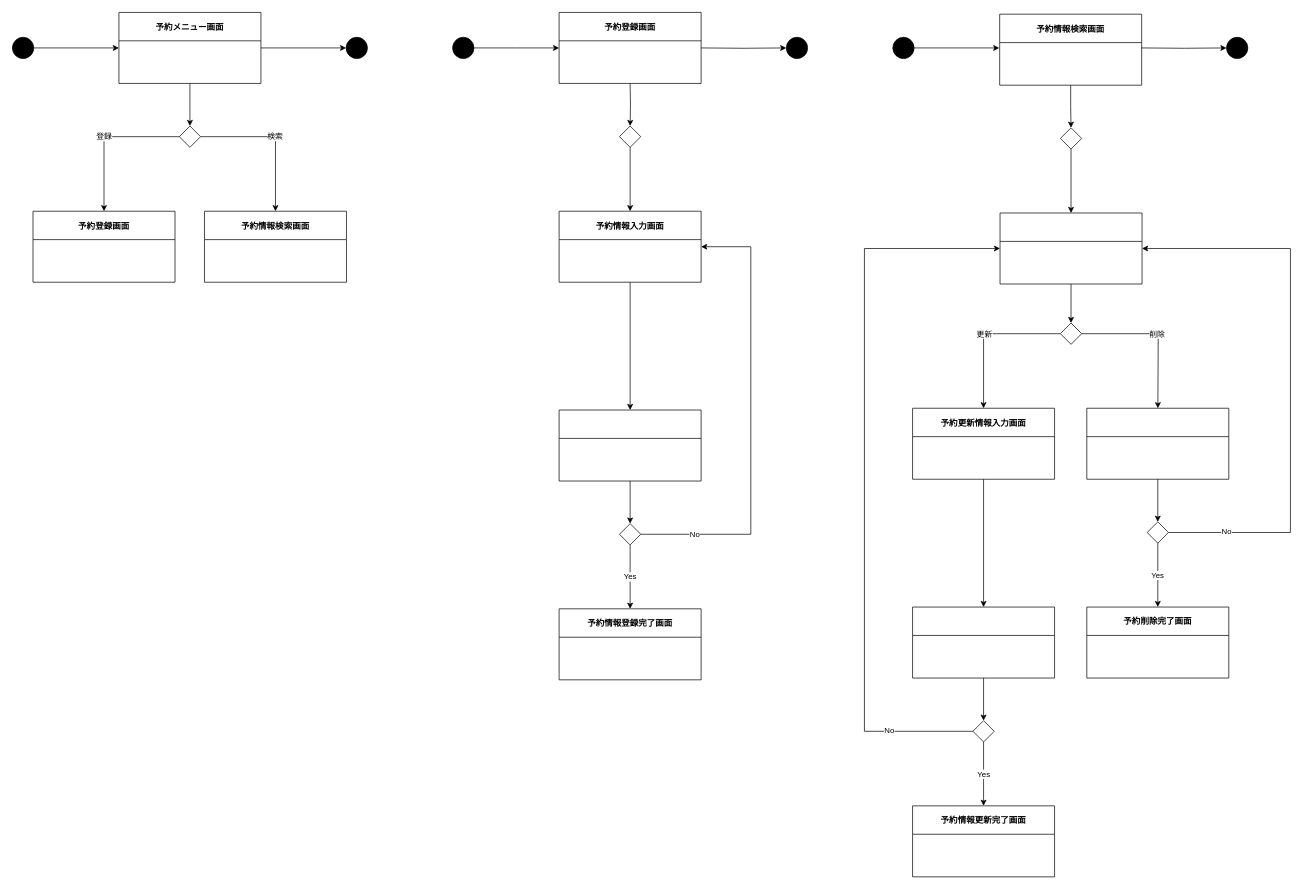
Image size: 1309x890. Some labels were removed from this diagram. Each missing label, with the centre of its shape:
予約削除確認画面: the point at 1157,443
予約情報更新確認画面: the point at 983,642
予約情報登録確認画面: the point at 629,445
予約情報詳細画面: the point at 1070,248
